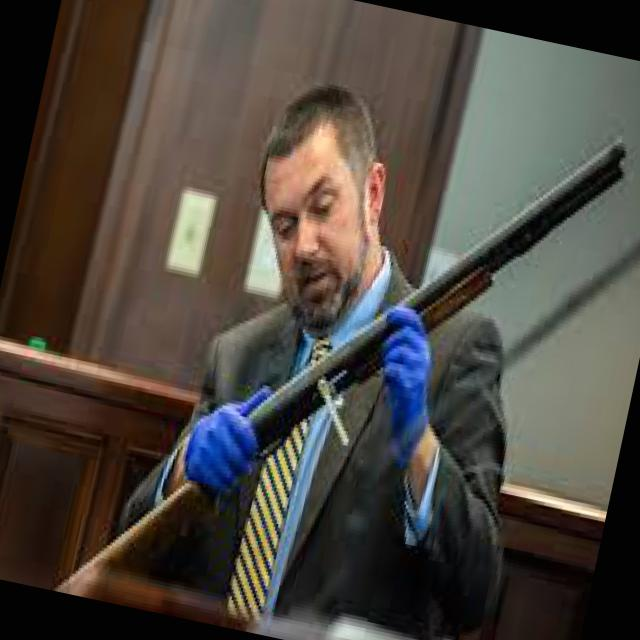long weapon: (66, 112, 640, 593)
